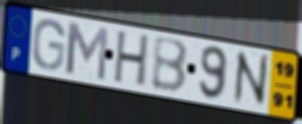9: (198, 45, 230, 102)
B: (150, 36, 190, 96)
G: (30, 17, 67, 72)
H: (112, 30, 152, 90)
M: (64, 19, 110, 84)
N: (232, 49, 270, 108)
